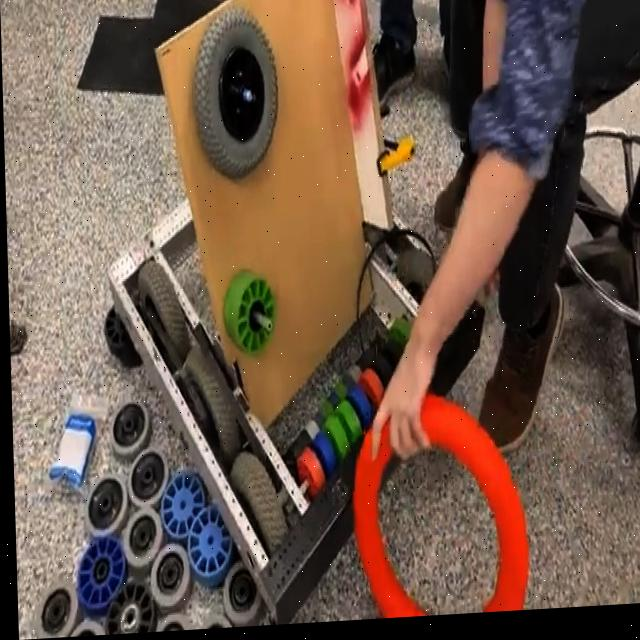note: (344, 389, 528, 623)
